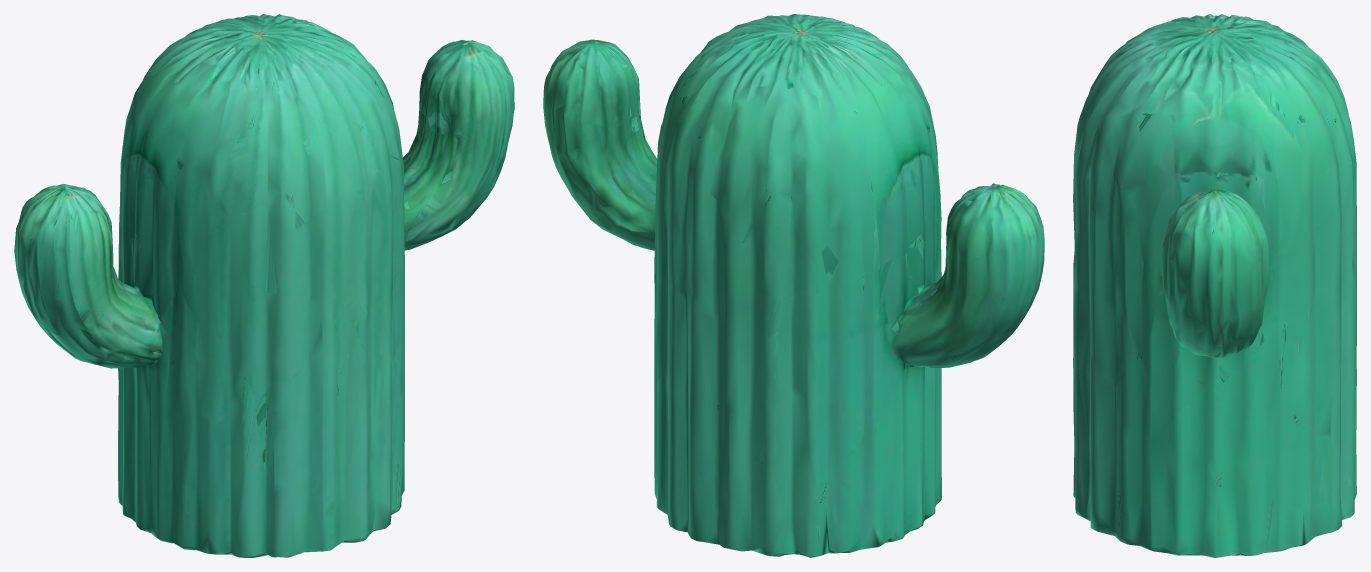
Rendered from cactus.glb.
The picture shows the model from 3 angles, left to right: view 1: azimuth 30°, elevation 25°; view 2: azimuth 150°, elevation 25°; view 3: azimuth 270°, elevation 25°; orthographic projection.
Bounding box in the file's own units: 2 × 1.83 × 1.01.
Materials: 1 (1 with a texture image).
